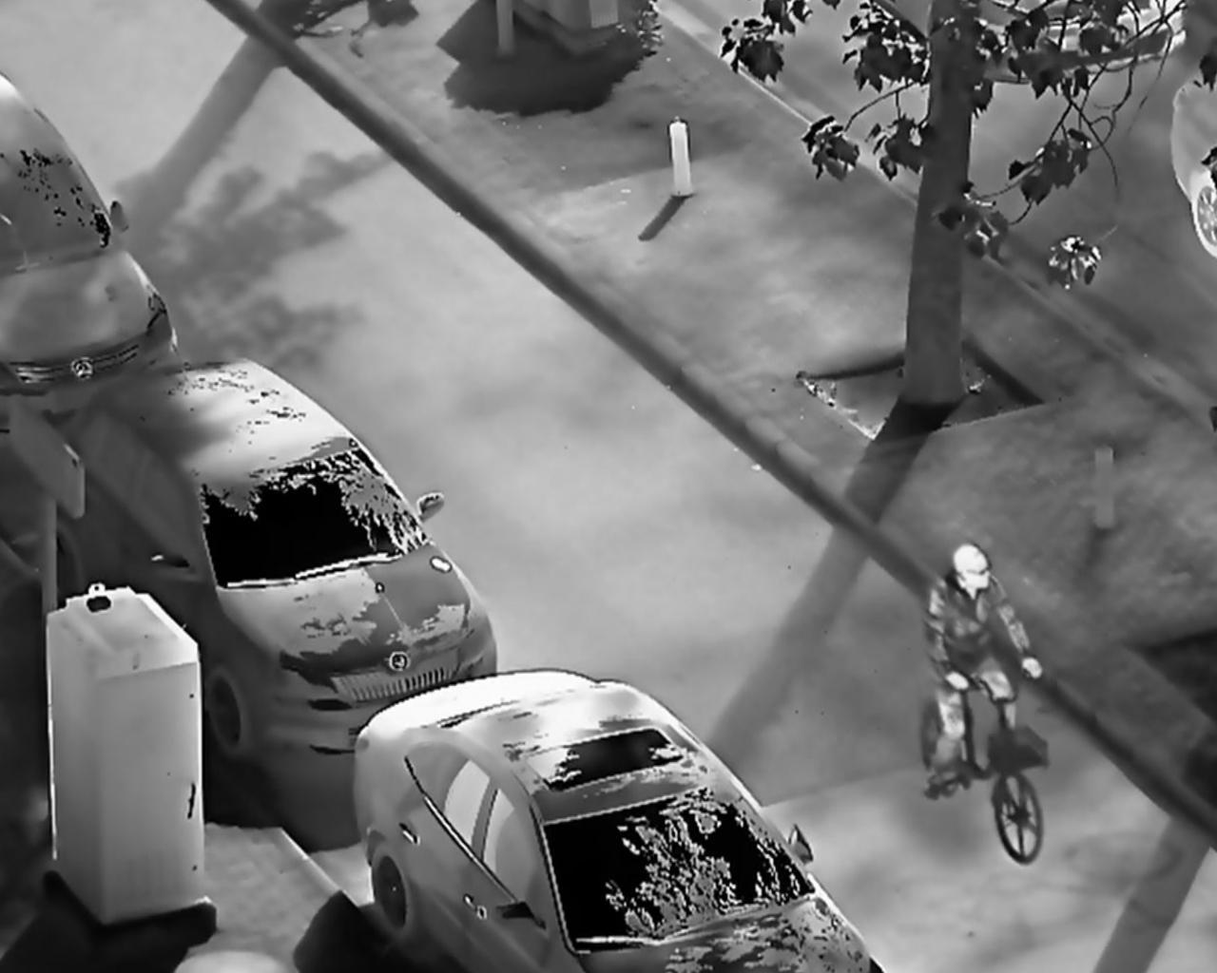person: (918, 542, 1047, 794)
